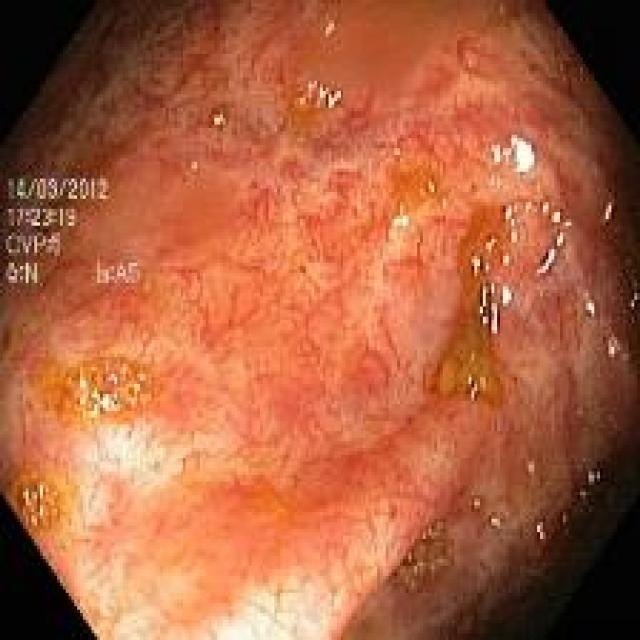ulcerative-colitis-grade-1: (0, 3, 640, 640)
